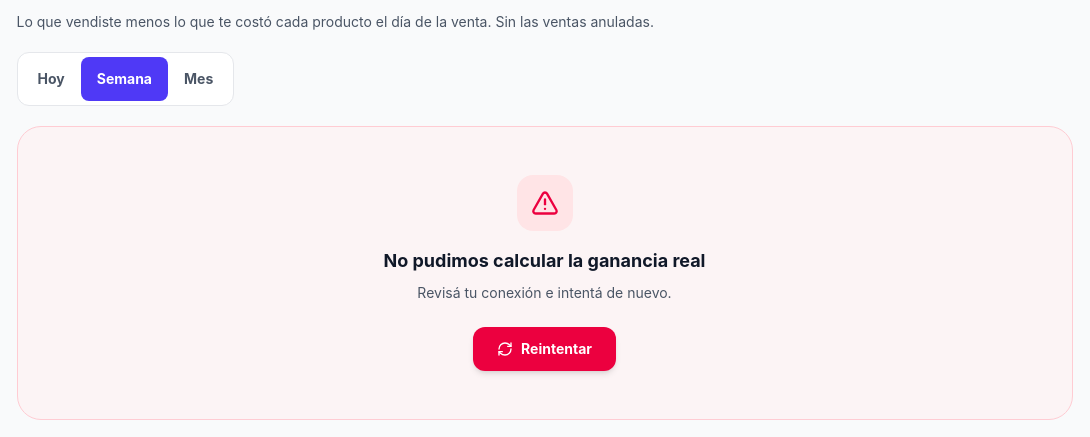
Scenario: Ganancia real (/ventas/ganancia) › si falla, ofrece reintentar
Click the button "Reintentar" at (544, 349), box [473, 327, 616, 371]
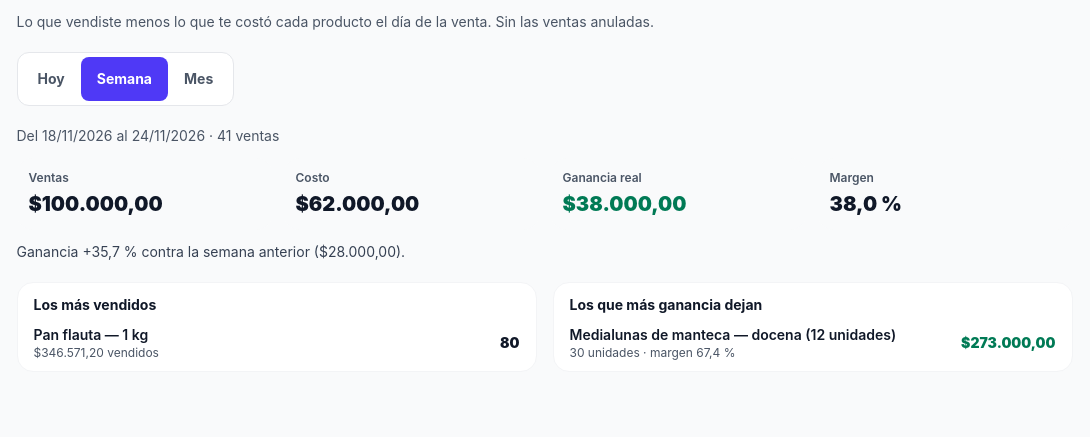
Expected: the element named "Totales del período" is shown, [16, 126, 1072, 262]
